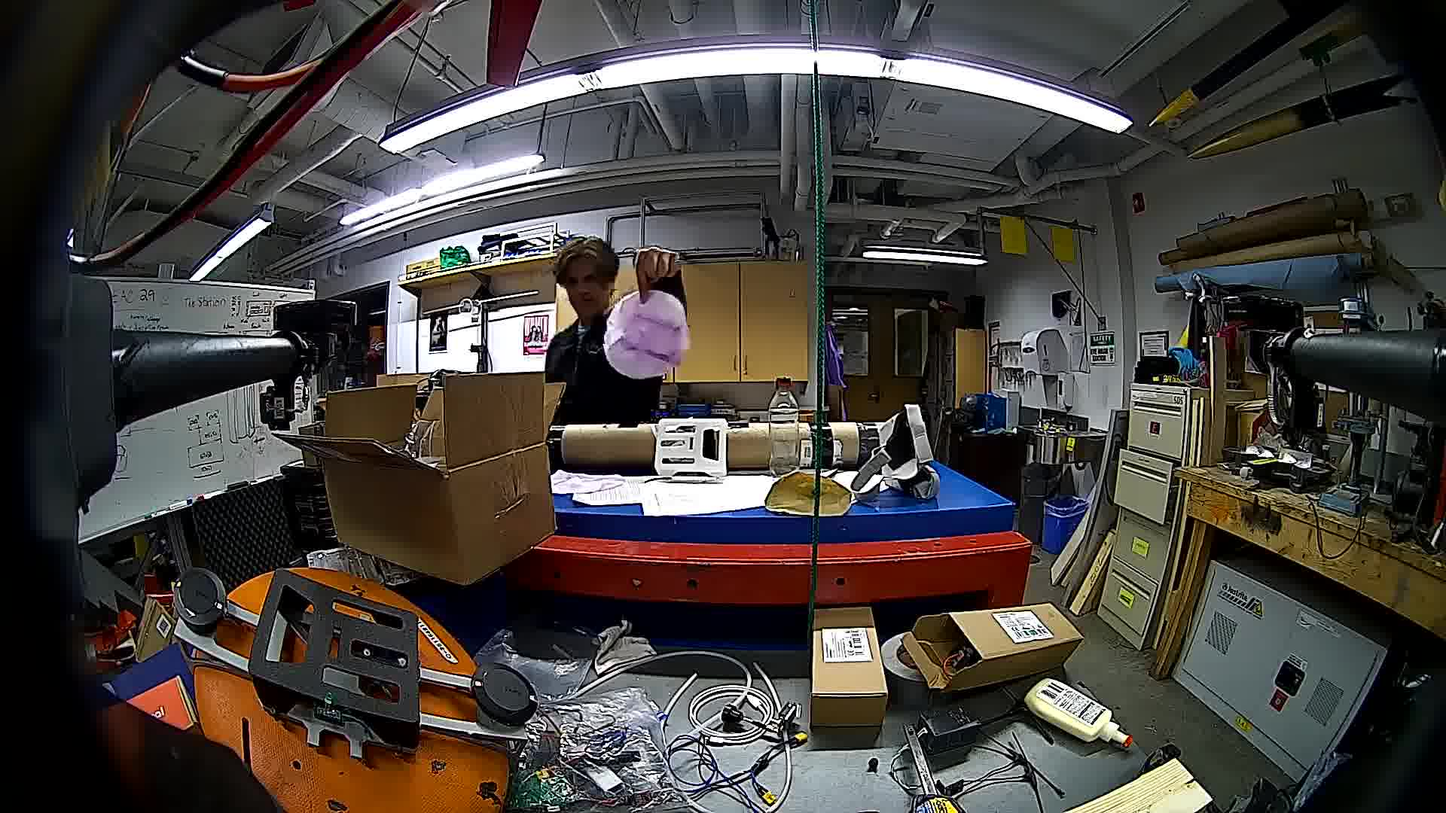Target: (604, 290, 689, 380)
